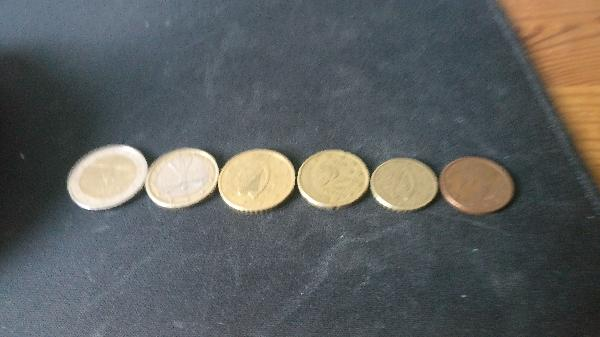Fifty Cent: (216, 148, 295, 215)
Five Cent: (439, 155, 517, 219)
One Euro: (145, 147, 220, 211)
Ten Cent: (369, 157, 438, 214)
Twenty Cent: (295, 150, 370, 207)
Two Euro: (69, 144, 147, 215)
